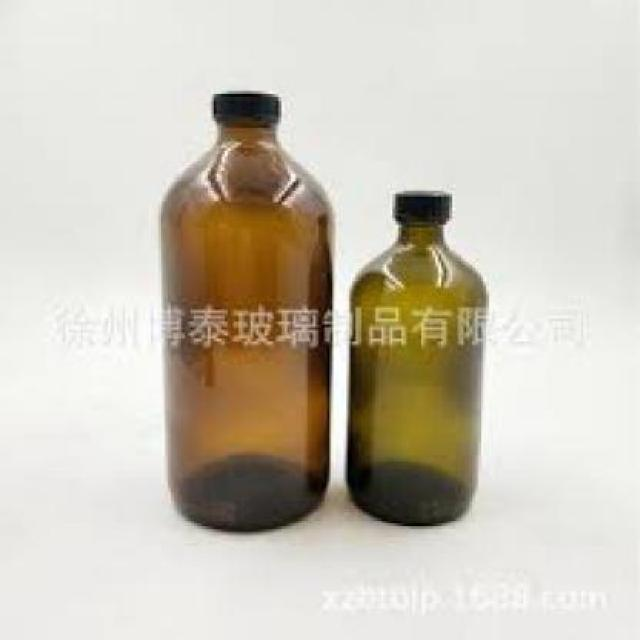kaca: (157, 120, 328, 529), (342, 223, 483, 522)
